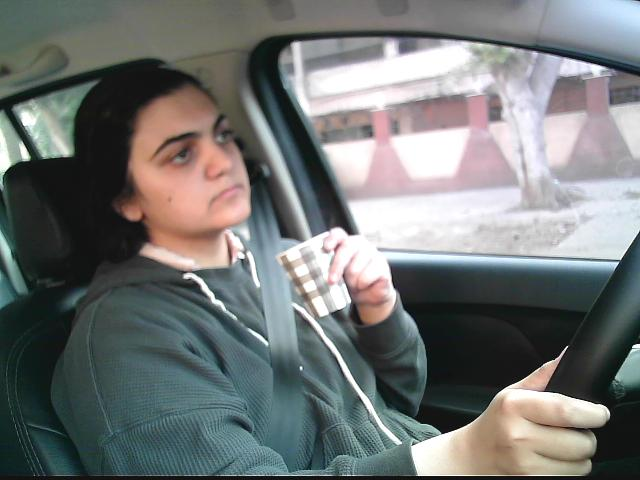Drinking: (278, 223, 356, 321)
